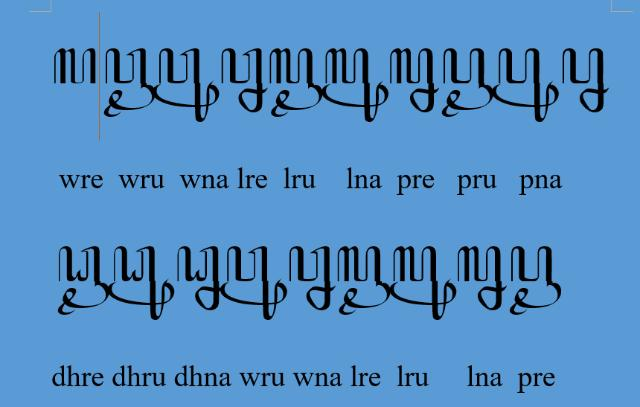dhn: (178, 246, 222, 310)
dhre: (58, 247, 109, 316)
dhru: (108, 247, 174, 322)
l: (53, 48, 97, 85)
ln: (388, 48, 439, 112), (458, 246, 507, 310)
lre: (270, 48, 322, 118), (338, 247, 390, 316)
lru: (389, 246, 456, 320), (322, 48, 388, 122)
pn: (561, 48, 609, 112)
pre: (509, 244, 561, 316), (442, 48, 493, 118)
pru: (492, 48, 560, 122)
wn: (220, 48, 268, 112), (288, 246, 336, 310)
wre: (103, 48, 155, 116)
wru: (220, 246, 288, 320), (153, 47, 219, 123)
